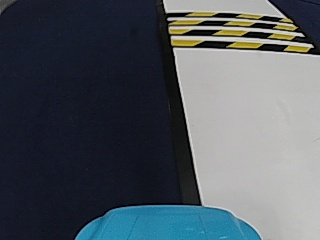bump: (178, 13, 288, 52)
